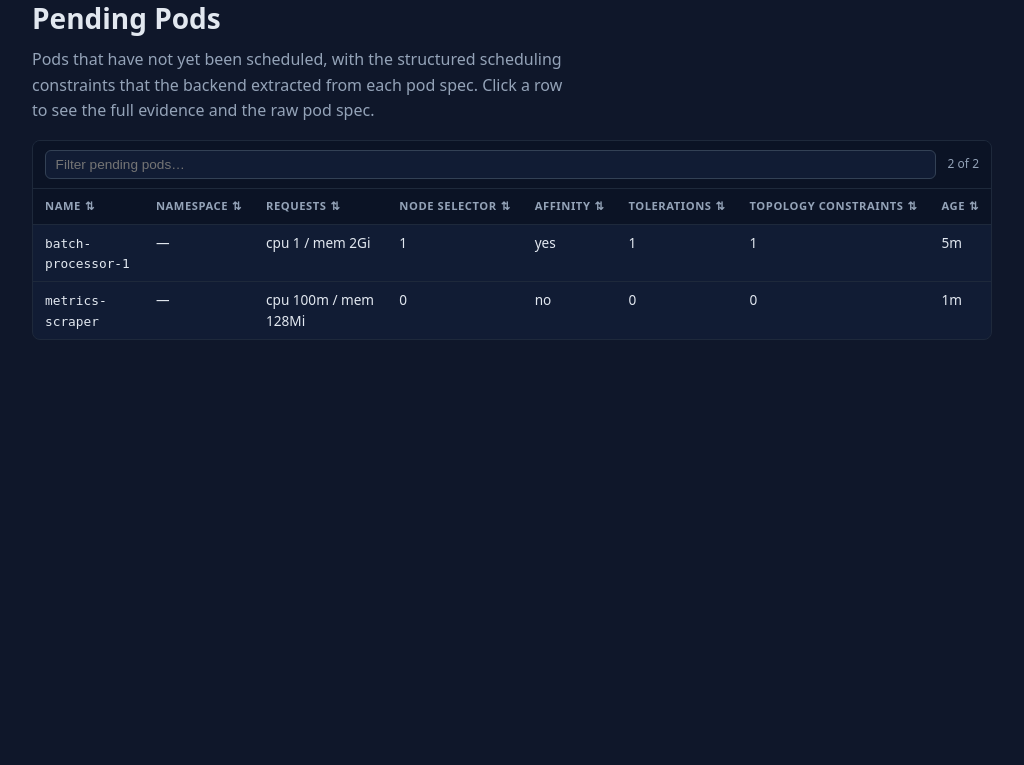
<PendingPods /> › opens detail with raw pod spec when a row is clicked
Click the button with test id "resource-table-row" that starts with "batch-processor-1".
click(68, 243)  # box [33, 224, 991, 282]
(page scrolled)
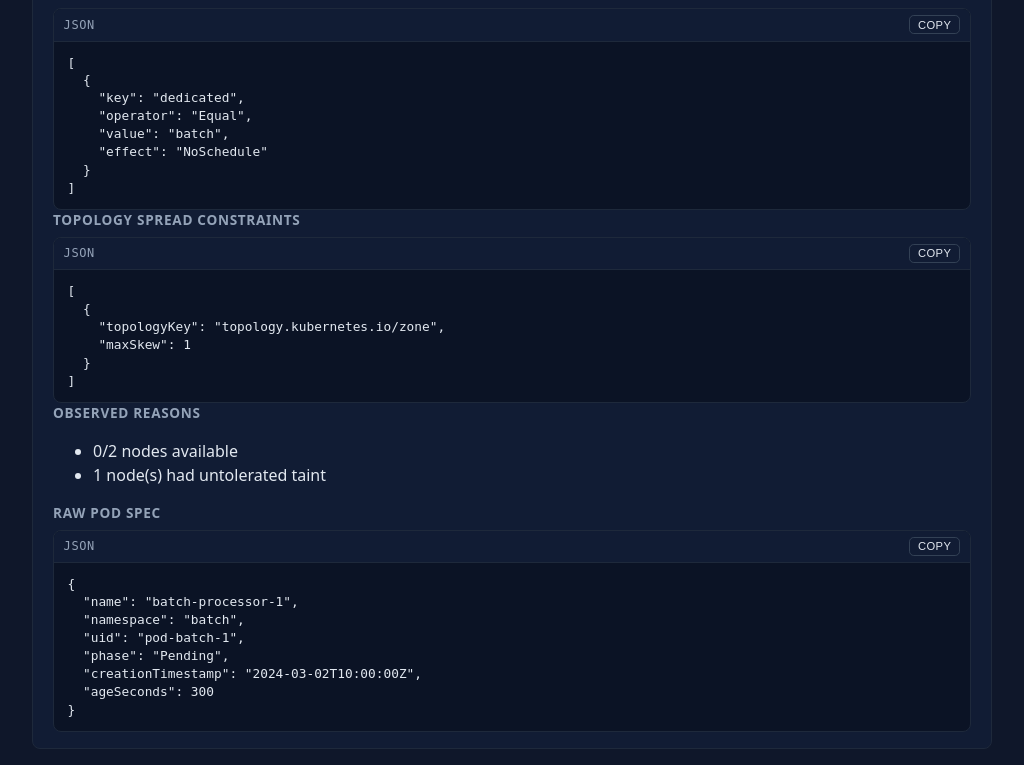
Expected: the list with test id "pending-pod-reasons" is shown, [93, 440, 326, 486]
